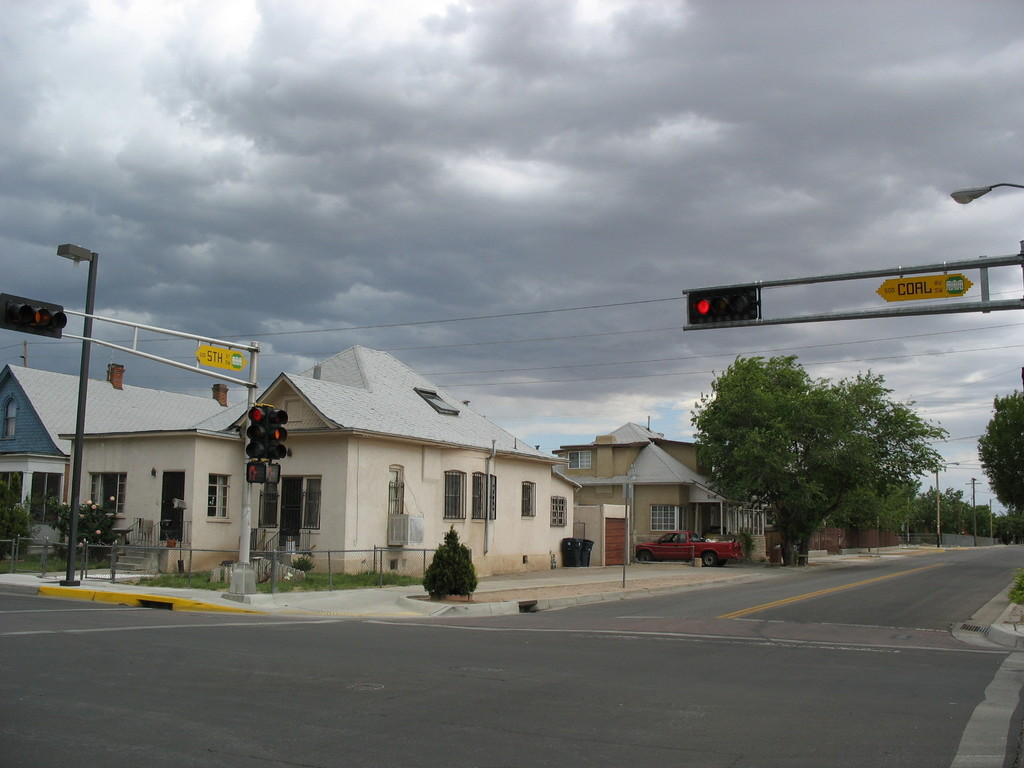red_light: (685, 288, 759, 323), (248, 406, 265, 456)
